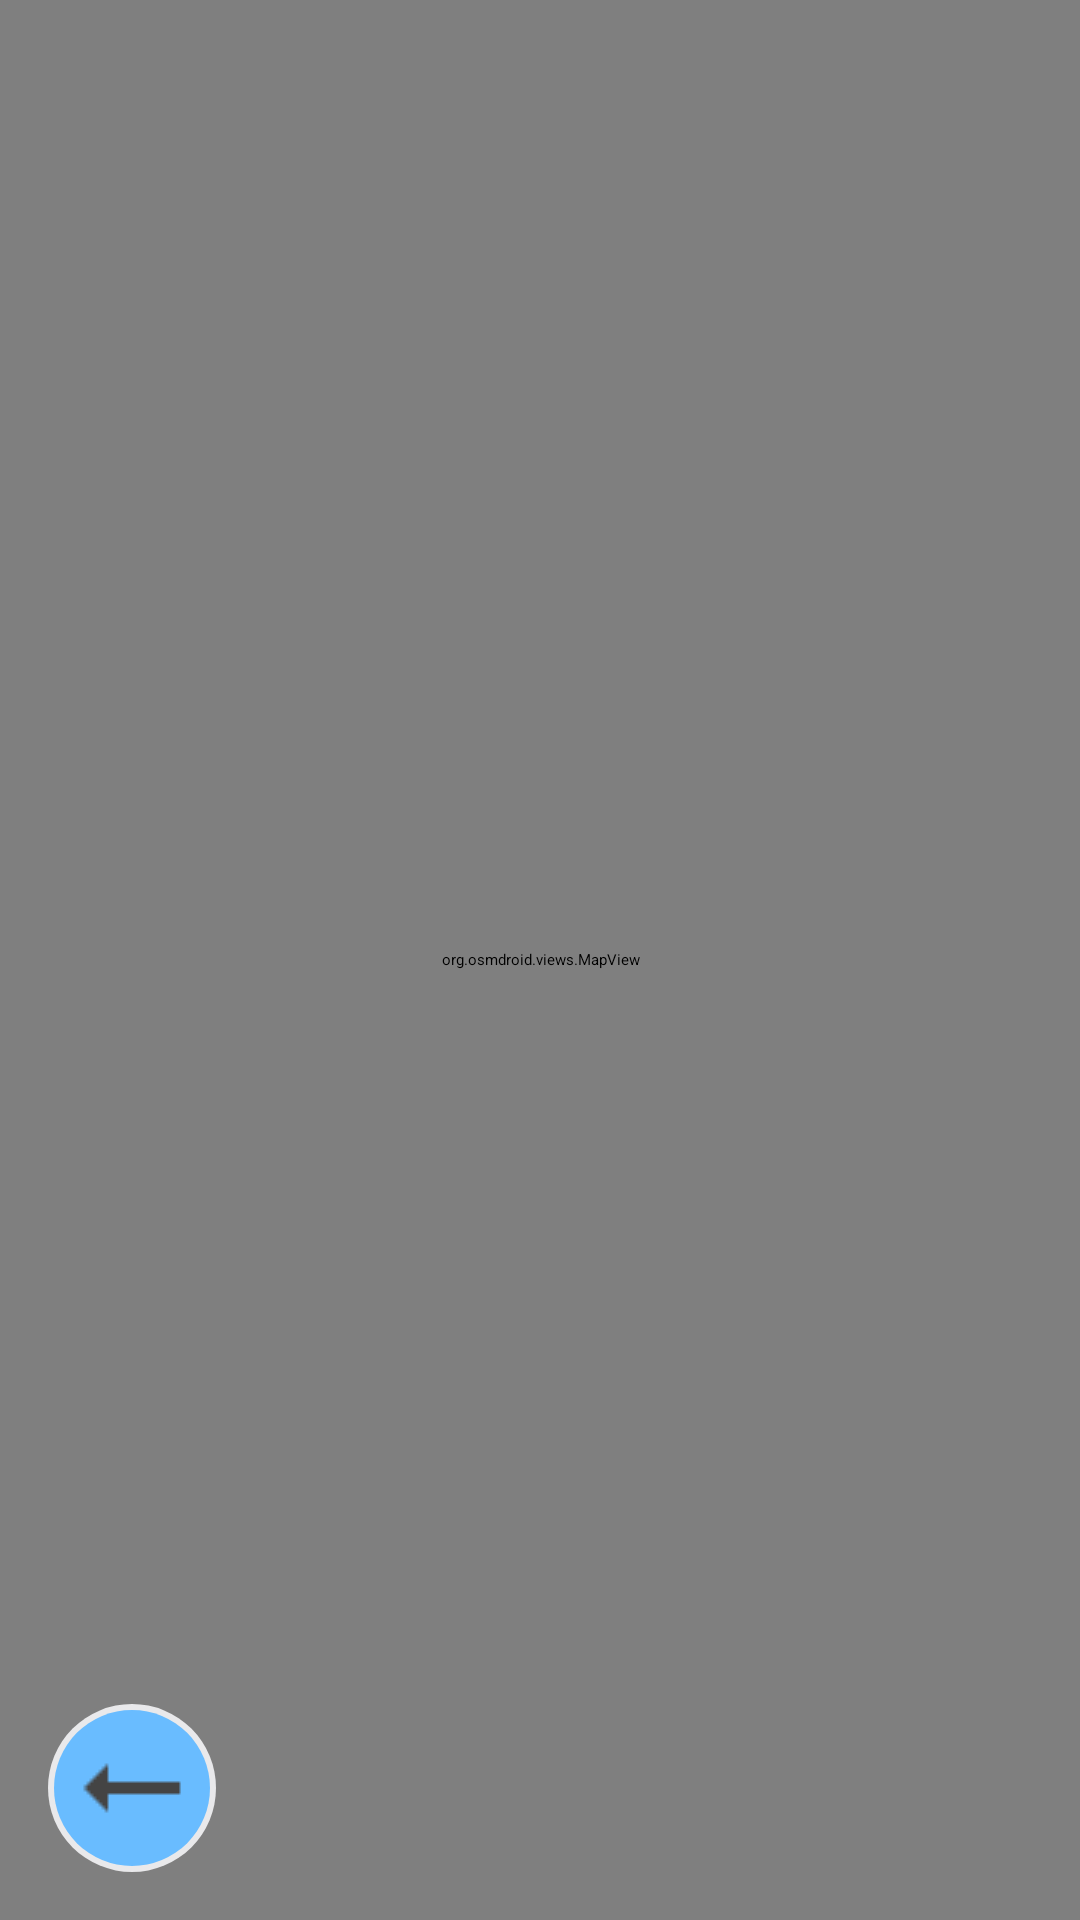

Where to tap for icons on this 1080 × 1920 app screen, as [x,y]:
back: [132,1788]
